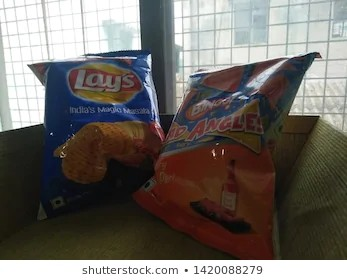lays-small: (35, 51, 156, 223)
